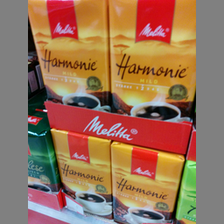coffee: (109, 1, 195, 122), (28, 1, 109, 110), (111, 142, 185, 224), (50, 127, 114, 220)
